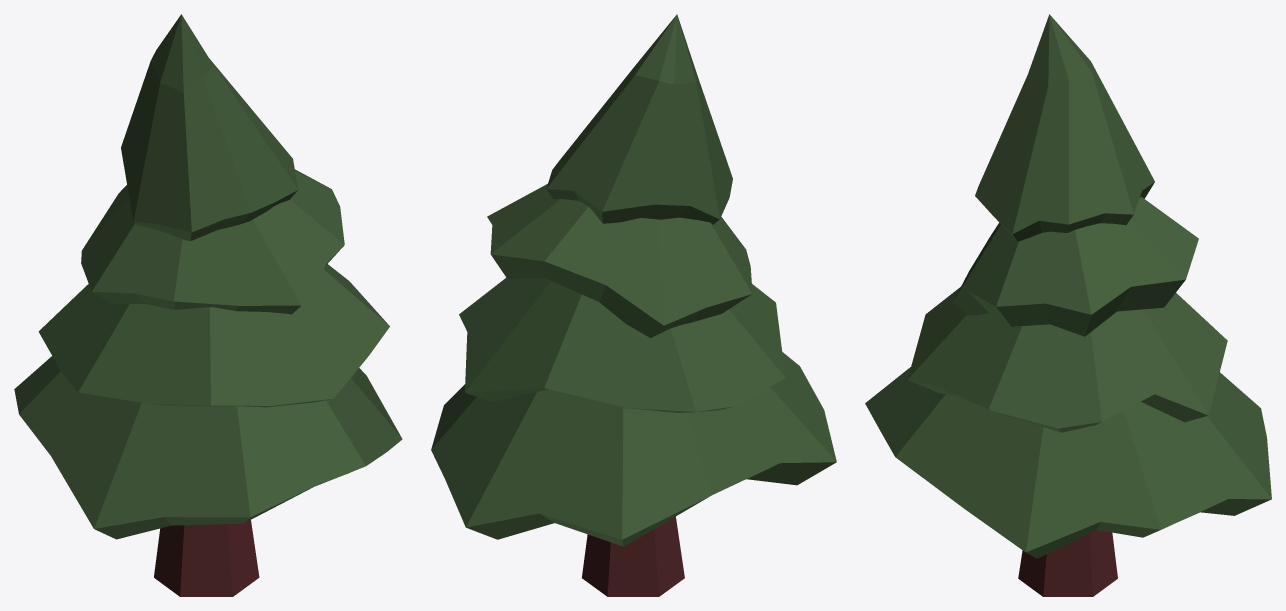
The model's file is ecosystem.fbx_Tree3.fbx.
3 renders of one model, left to right at view 1: azimuth 30°, elevation 25°; view 2: azimuth 150°, elevation 25°; view 3: azimuth 270°, elevation 25°, orthographic. The views are drawn at different scales.
Visible parts, largest first — view 1: Cone.002, Cylinder.002; view 2: Cone.002, Cylinder.002; view 3: Cone.002, Cylinder.002.
Boxes of the visible parts, <box> form: Cone.002: <box>14,14,402,539</box>; Cylinder.002: <box>154,520,259,596</box>; Cone.002: <box>431,14,836,546</box>; Cylinder.002: <box>582,516,684,596</box>; Cone.002: <box>865,14,1271,558</box>; Cylinder.002: <box>1018,530,1117,596</box>.
Size of the model in its own units: 220 by 360 by 242.
